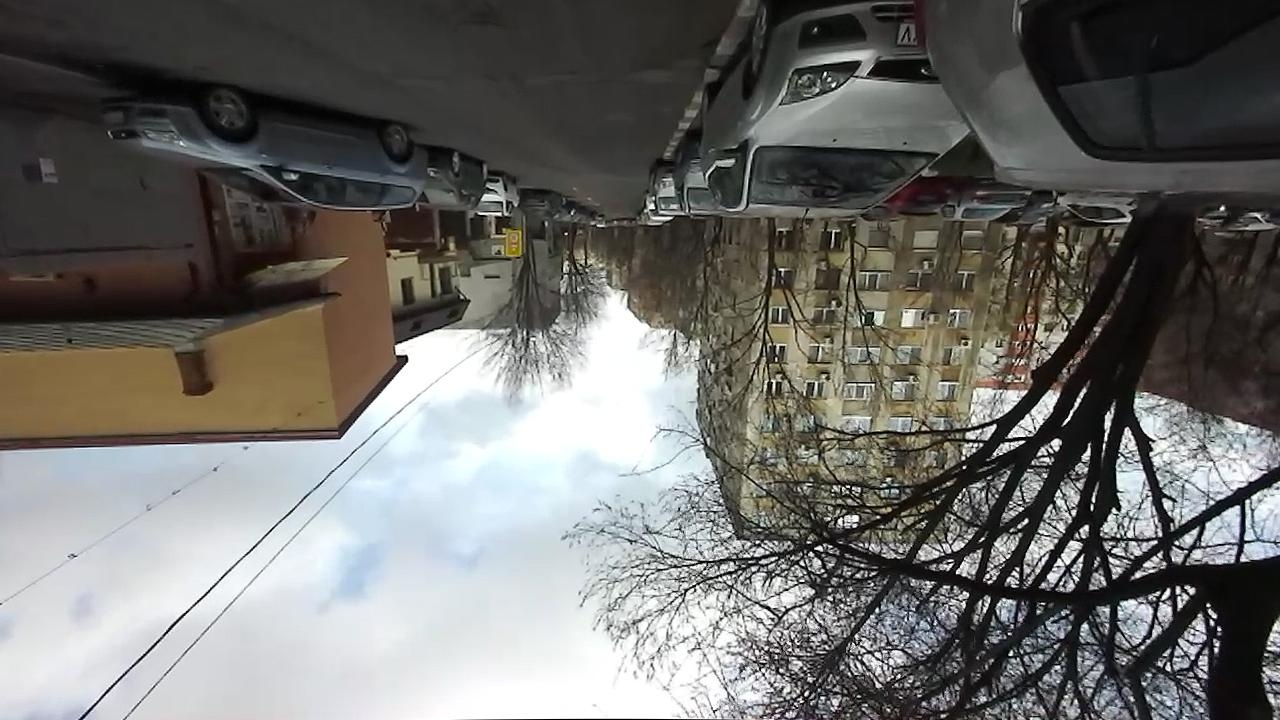pothole: (442, 0, 507, 32), (701, 37, 718, 51)
